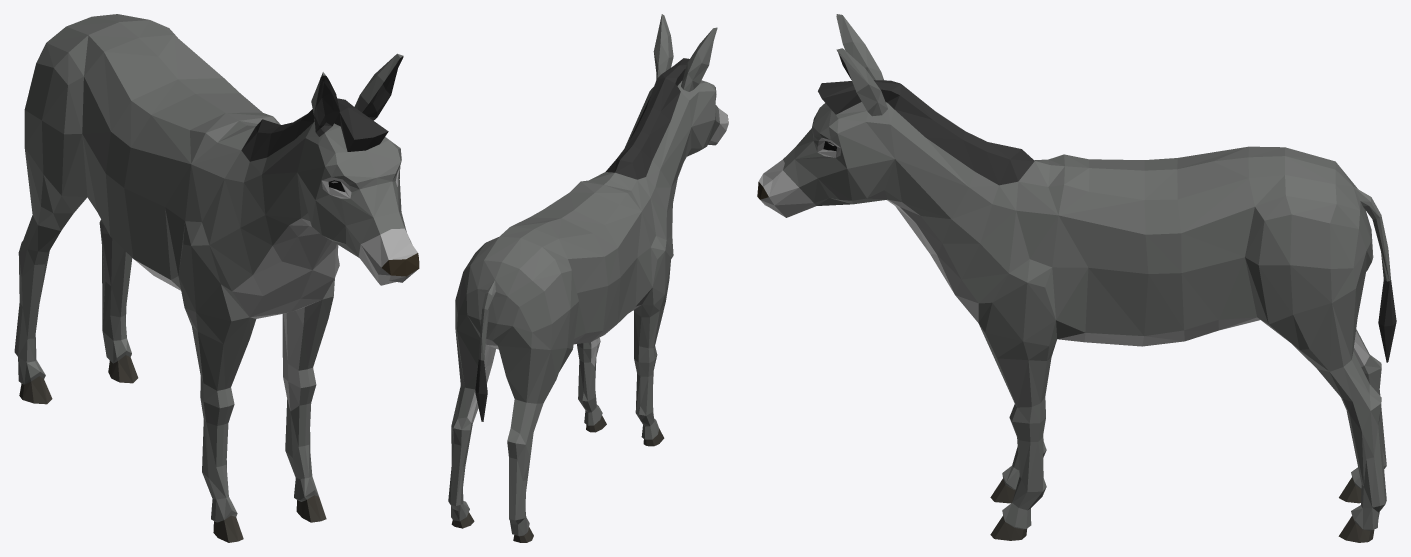
File: donkey.glb
3 renders of one model, left to right at view 1: azimuth 30°, elevation 25°; view 2: azimuth 150°, elevation 25°; view 3: azimuth 270°, elevation 25°, orthographic. The views are drawn at different scales.
Visible parts, largest first — view 1: Donkey_baked; view 2: Donkey_baked; view 3: Donkey_baked.
Part boxes in pixels (x1=…): Donkey_baked: x1=14, y1=14, x2=419, y2=542; Donkey_baked: x1=448, y1=14, x2=728, y2=542; Donkey_baked: x1=757, y1=14, x2=1396, y2=542.
Size of the model in its own units: 1.17 by 3.95 by 4.71.
Materials: 1 (1 with a texture image).
